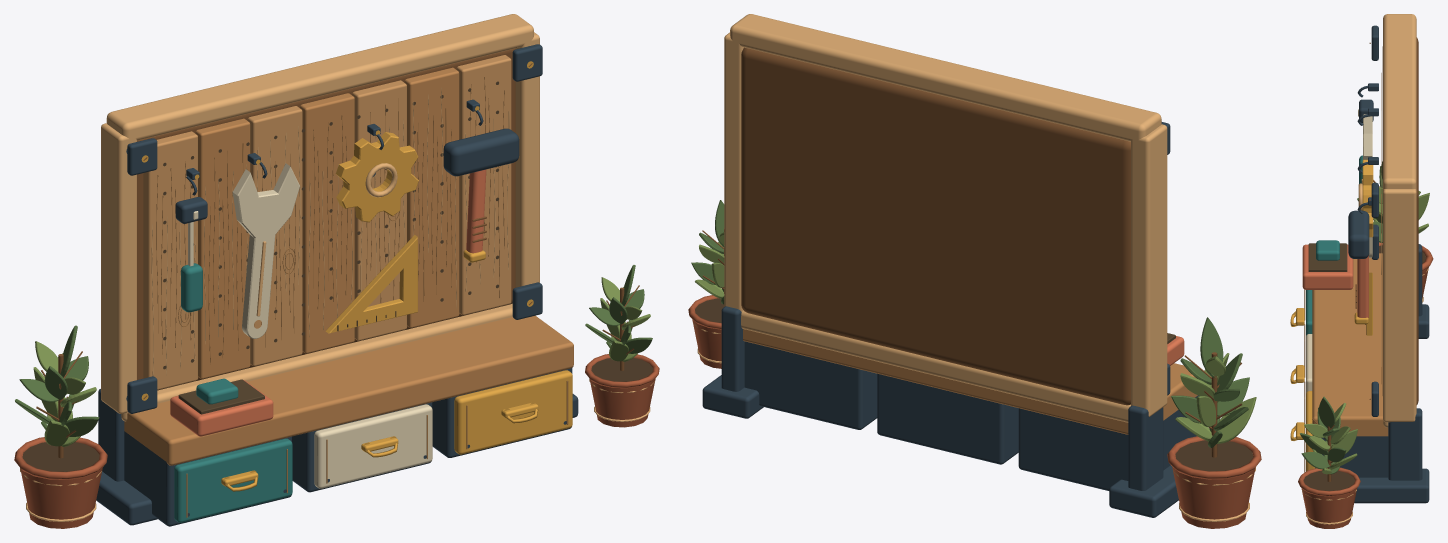
File: workshop-tool-rack-medium.glb
The picture shows the model from 3 angles, left to right: view 1: azimuth 30°, elevation 25°; view 2: azimuth 150°, elevation 25°; view 3: azimuth 270°, elevation 25°; orthographic projection. The views are drawn at different scales.
Visible parts, largest first — view 1: timber, plank, edge, navy, brass, cream, teal, pot (×2), grain, darkWood, coral, grainLight (+2 smaller); view 2: darkWood, edge, navy, pot (×2), timber, soil, Leaf 8, Leaf 1; view 3: edge, timber, navy, pot (×2), brass, coral, darkWood, cream, teal, soil, shadow, grain (+8 smaller).
Part boxes in pixels (x1,y1,x2,y2): timber: (124,67,573,465); plank: (143,55,511,389); edge: (101,14,539,421); navy: (96,44,578,526); brass: (141,61,572,491); cream: (188,163,432,488); teal: (174,263,292,522); pot (×2): (14,354,659,528); grain: (156,77,568,517); darkWood: (137,48,532,398); coral: (170,169,486,436); grainLight: (151,88,509,375); darkWood: (741,47,1130,405); edge: (724,14,1167,422); navy: (702,122,1199,517); pot (×2): (688,295,1261,528); timber: (743,329,1197,434); soil: (1175,440,1253,471); Leaf 8: (1200,317,1223,377); Leaf 1: (1217,397,1256,443); edge: (1358,14,1416,427); timber: (1312,68,1388,436); navy: (1315,25,1429,503); pot (×2): (1298,242,1433,528); brass: (1290,159,1373,471); coral: (1302,244,1368,317); darkWood: (1355,37,1418,404); cream: (1306,109,1372,392); teal: (1306,155,1362,335); soil: (1303,470,1355,490); shadow: (1308,243,1365,324); grain: (1304,73,1381,472).
Bounding box in the file's own units: 2.04 × 1.25 × 0.5082.
